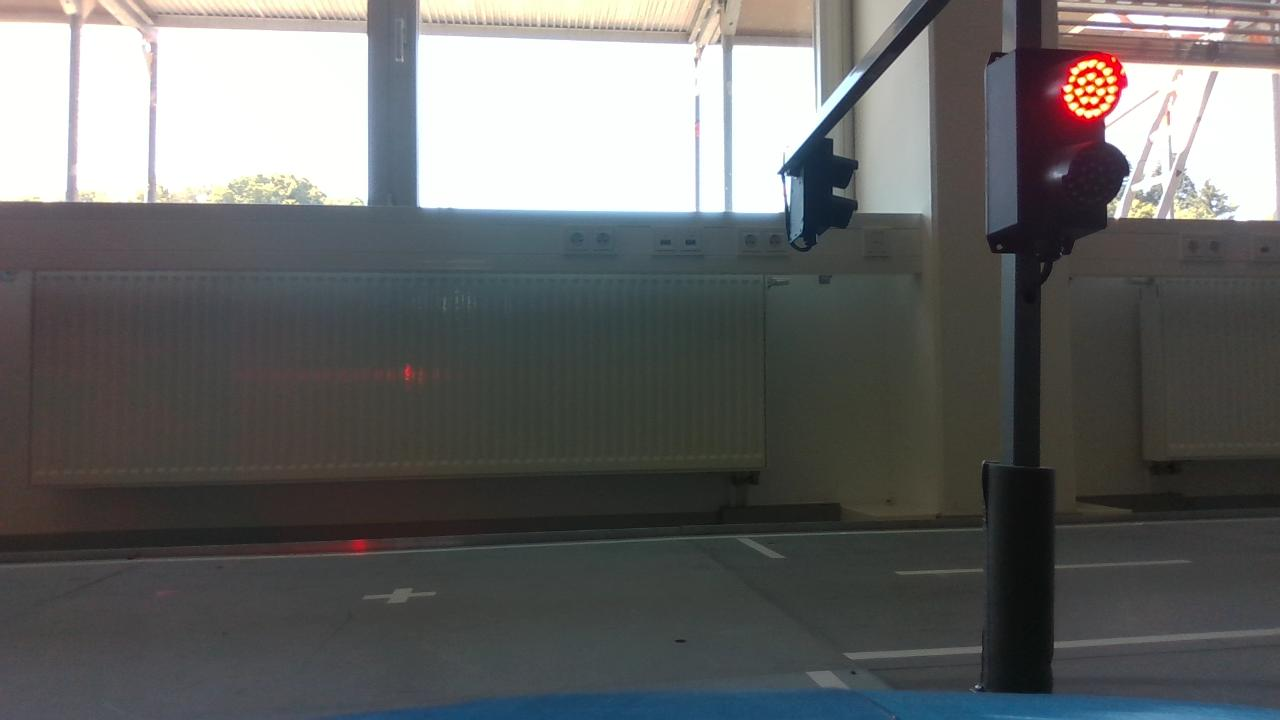traffic_light_red: (971, 39, 1134, 264)
